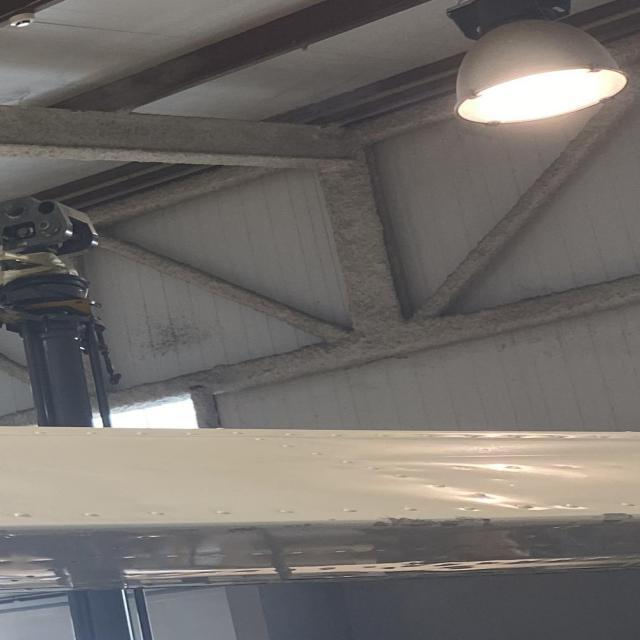Paint-off: (371, 518, 499, 530), (597, 509, 633, 528)
